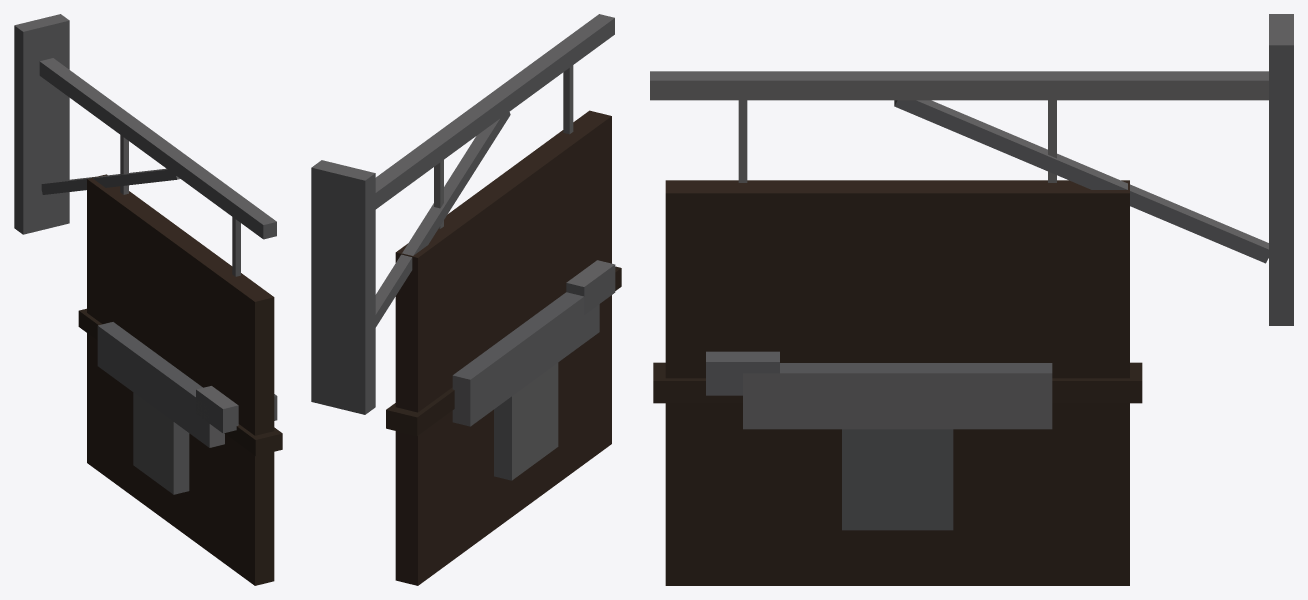
Rendered from walk_prop_sign_smith.glb.
The picture shows the model from 3 angles, left to right: view 1: azimuth 30°, elevation 25°; view 2: azimuth 150°, elevation 25°; view 3: azimuth 270°, elevation 25°; orthographic projection. The views are drawn at different scales.
Visible parts, largest first — view 1: walk_prop_sign_smith; view 2: walk_prop_sign_smith; view 3: walk_prop_sign_smith.
Boxes of the visible parts, x1,y1,x2,y2 form: walk_prop_sign_smith: (14,14,282,585); walk_prop_sign_smith: (311,14,621,585); walk_prop_sign_smith: (650,14,1293,585).
Bounding box in the file's own units: 0.14 × 0.98 × 1.04.
2 materials, 2 textured.
